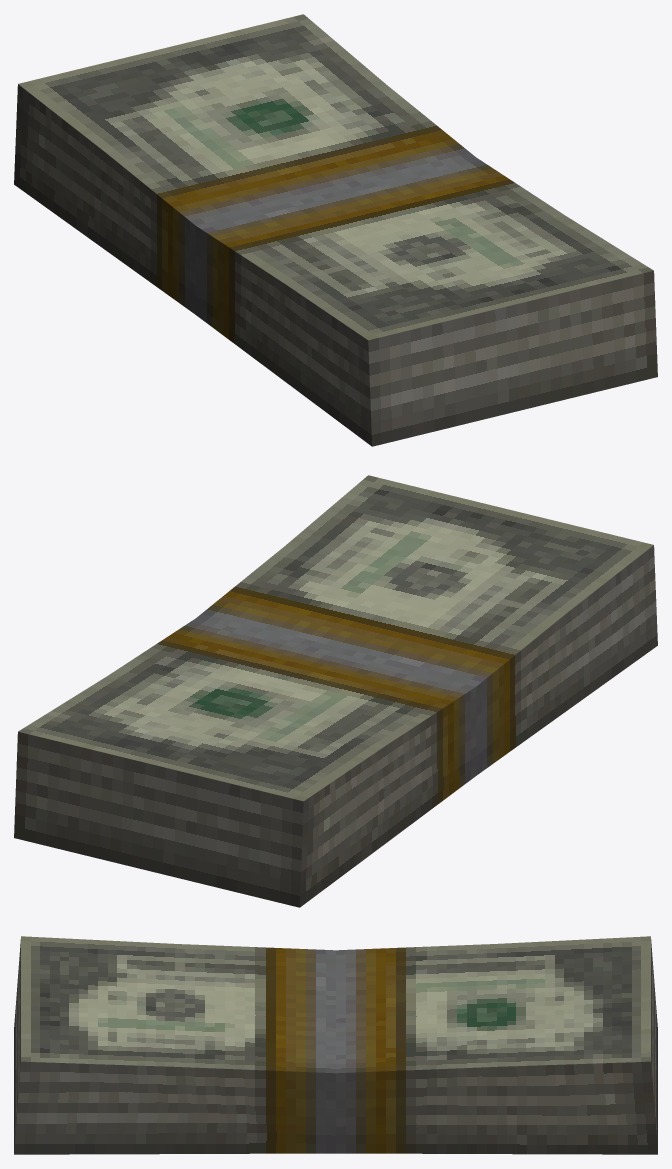
Rendered from cash_1.glb.
3 views of the same model, one above another, from view 1: azimuth 30°, elevation 25°; view 2: azimuth 150°, elevation 25°; view 3: azimuth 270°, elevation 25° (orthographic). The views are drawn at different scales.
Visible parts, largest first — view 1: cash_1; view 2: cash_1; view 3: cash_1.
Part boxes in pixels (<box>): cash_1: <box>14,14,657,446</box>; cash_1: <box>14,475,657,907</box>; cash_1: <box>14,936,657,1154</box>.
Bounding box in the file's own units: 0.1051 × 0.0364 × 0.2281.
Materials: 1 (1 with a texture image).
